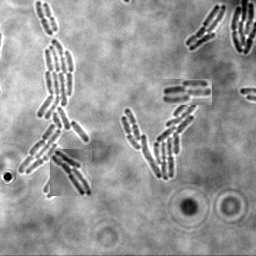Dividing: (34, 1, 52, 37), (41, 3, 57, 33)
Microcolony: (18, 40, 89, 199), (120, 87, 197, 181), (184, 5, 226, 52), (50, 149, 92, 196), (230, 1, 255, 56), (161, 79, 212, 105)
